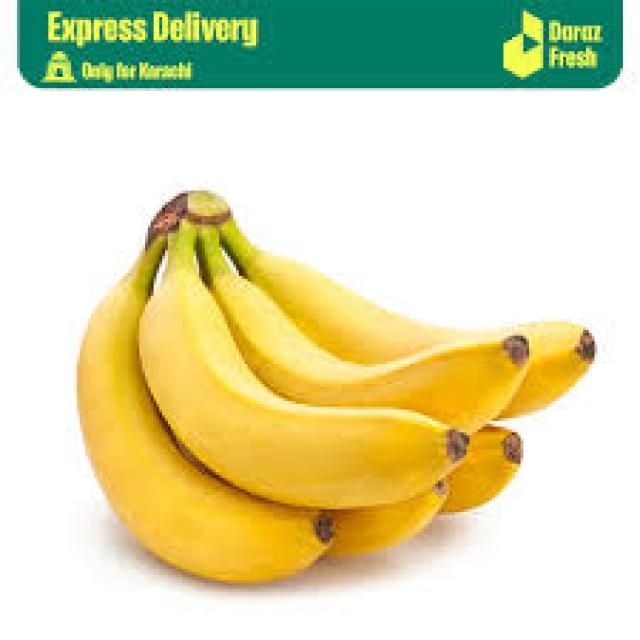banana: (74, 188, 594, 583)
